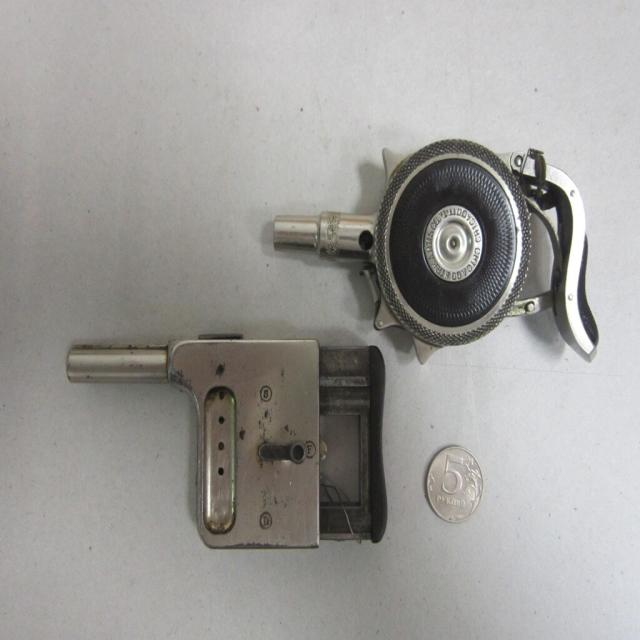pistol: (274, 142, 602, 366), (66, 333, 388, 544)
